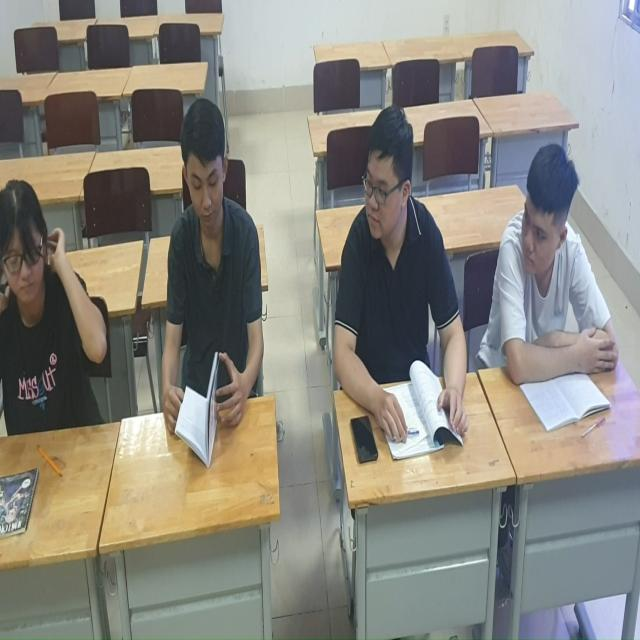read: (325, 112, 490, 456), (155, 86, 283, 470), (497, 119, 613, 426), (1, 174, 115, 454)
